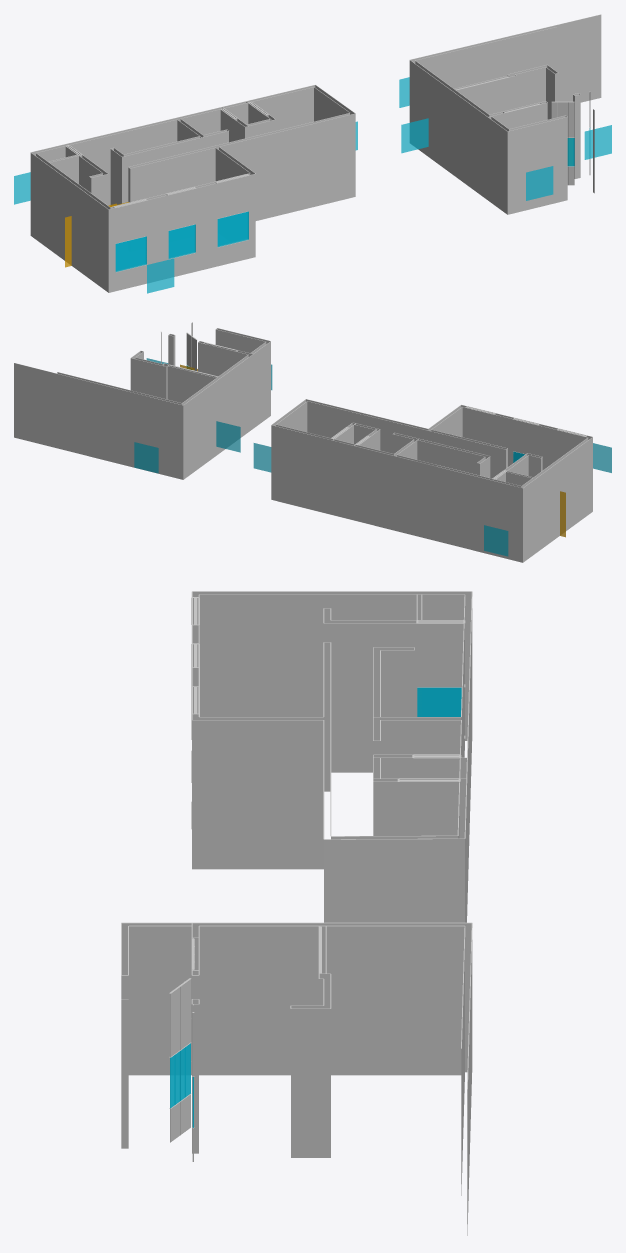
File: 86bab402-4426-4ad7-811d-d23919acac9e.glb
The picture shows the model from 3 angles, top to bottom: view 1: azimuth 30°, elevation 25°; view 2: azimuth 150°, elevation 25°; view 3: azimuth 270°, elevation 25°; orthographic projection. The views are drawn at different scales.
Visible parts, largest first — view 1: walls, windows, roof, doors; view 2: walls, windows, roof; view 3: walls, roof, windows.
Boxes of the visible parts, bbox=[...] form: walls: bbox=[30, 14, 601, 292]; windows: bbox=[14, 77, 611, 293]; roof: bbox=[30, 14, 600, 209]; doors: bbox=[65, 202, 129, 267]; walls: bbox=[14, 322, 592, 562]; windows: bbox=[134, 358, 611, 556]; roof: bbox=[15, 322, 592, 488]; walls: bbox=[121, 591, 472, 1235]; roof: bbox=[121, 591, 472, 1089]; windows: bbox=[170, 687, 461, 1127].
Bounding box in the file's own units: 25.32 × 3.5 × 9.66.
